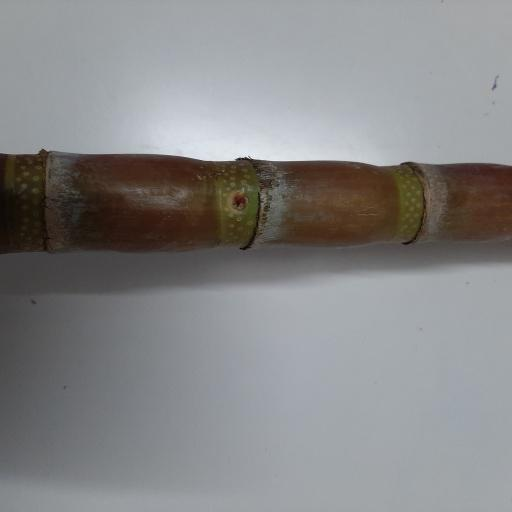Damage_Bud: (228, 189, 249, 215)
